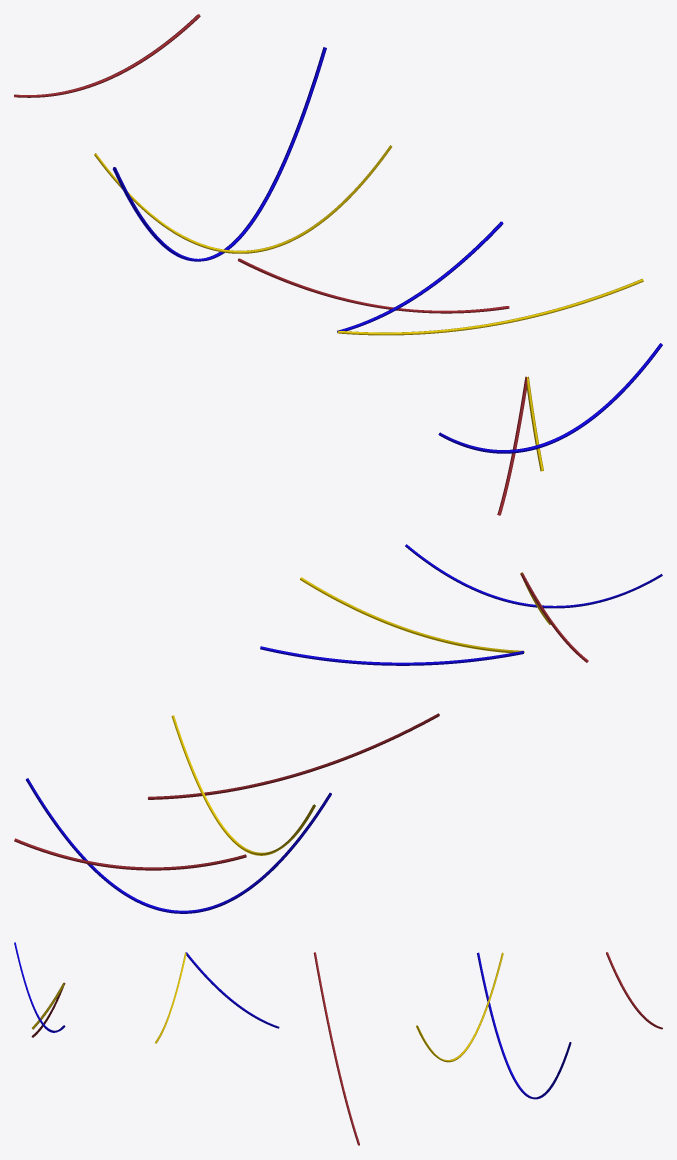
The model's file is Pipes_7.fbx.
3 views of the same model, one above another, from view 1: azimuth 30°, elevation 25°; view 2: azimuth 150°, elevation 25°; view 3: azimuth 270°, elevation 25° (orthographic). The views are drawn at different scales.
Parts seen in each view (by area): view 1: Catenary.086, Catenary.085, Catenary.061, Catenary.069, Catenary.060, Catenary.087, Catenary.062; view 2: Catenary.086, Catenary.060, Catenary.062, Catenary.087, Catenary.061, Catenary.069, Catenary.085; view 3: Catenary.086, Catenary.060, Catenary.085, Catenary.062.
Boxes of the visible parts, x1,y1,x2,y2 form: Catenary.086: (112, 47, 326, 261); Catenary.085: (94, 145, 392, 253); Catenary.061: (337, 278, 643, 335); Catenary.069: (438, 343, 662, 453); Catenary.060: (237, 258, 509, 313); Catenary.087: (14, 14, 200, 97); Catenary.062: (337, 221, 503, 332); Catenary.086: (26, 778, 331, 913); Catenary.060: (147, 713, 439, 799); Catenary.062: (260, 646, 523, 665); Catenary.087: (14, 838, 246, 870); Catenary.061: (300, 577, 524, 653); Catenary.069: (405, 544, 662, 608); Catenary.085: (171, 715, 315, 855); Catenary.086: (477, 952, 571, 1099); Catenary.060: (313, 952, 359, 1145); Catenary.085: (416, 952, 503, 1062); Catenary.062: (185, 952, 279, 1028).
Size of the model in its own units: 1214 by 521 by 3134.
